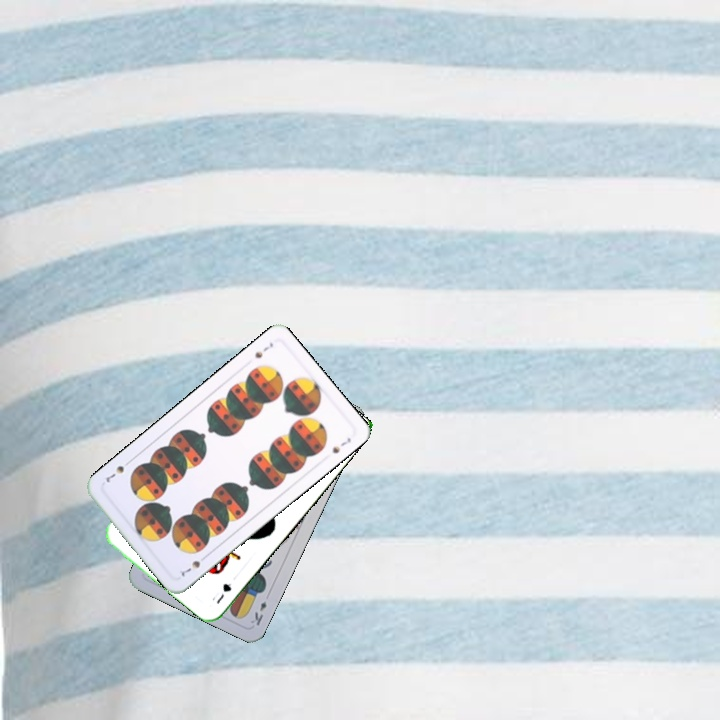EK: (246, 597, 269, 628)
GU: (212, 579, 234, 607)
S7: (177, 551, 210, 579), (251, 338, 276, 361)
